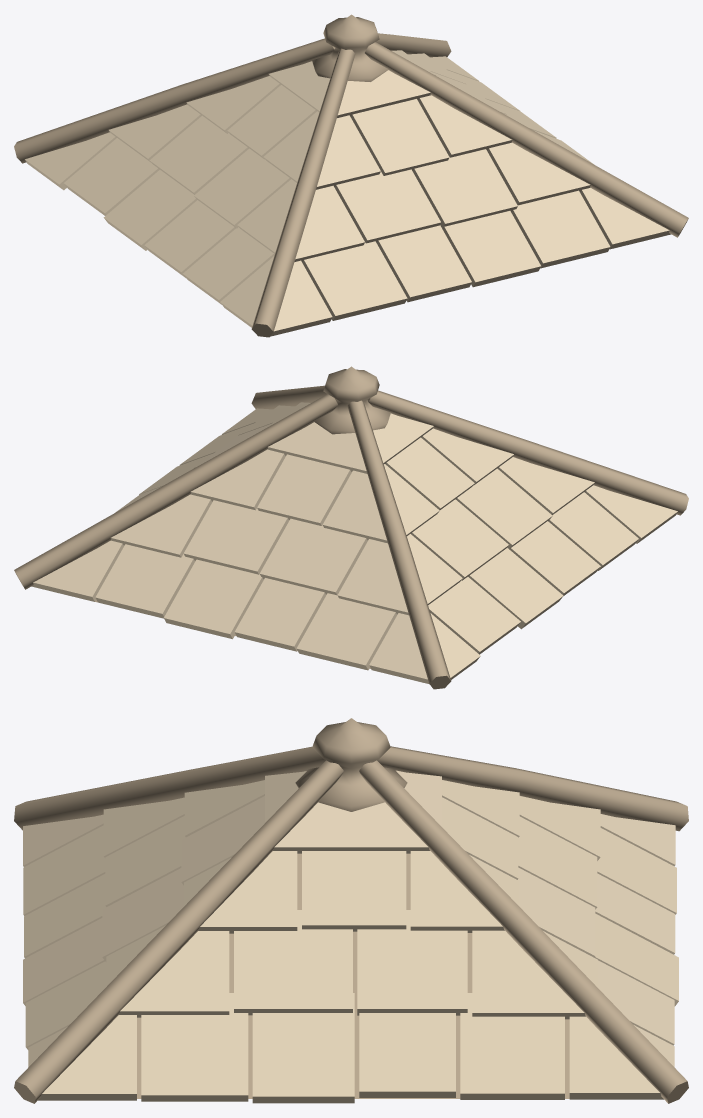
Rendered from building.hiproof.glb.
3 renders of one model, top to bottom at view 1: azimuth 30°, elevation 25°; view 2: azimuth 150°, elevation 25°; view 3: azimuth 270°, elevation 25°, orthographic. The views are drawn at different scales.
Visible parts, largest first — view 1: Paint, PaintDark; view 2: Paint, PaintDark; view 3: Paint, PaintDark.
Part boxes in pixels (bbox=[...]): Paint: bbox=[25, 50, 670, 336]; PaintDark: bbox=[14, 14, 688, 337]; Paint: bbox=[31, 402, 677, 684]; PaintDark: bbox=[14, 366, 688, 689]; Paint: bbox=[23, 770, 678, 1103]; PaintDark: bbox=[14, 718, 688, 1103].
Size of the model in its own units: 2.41 by 1 by 2.41.
